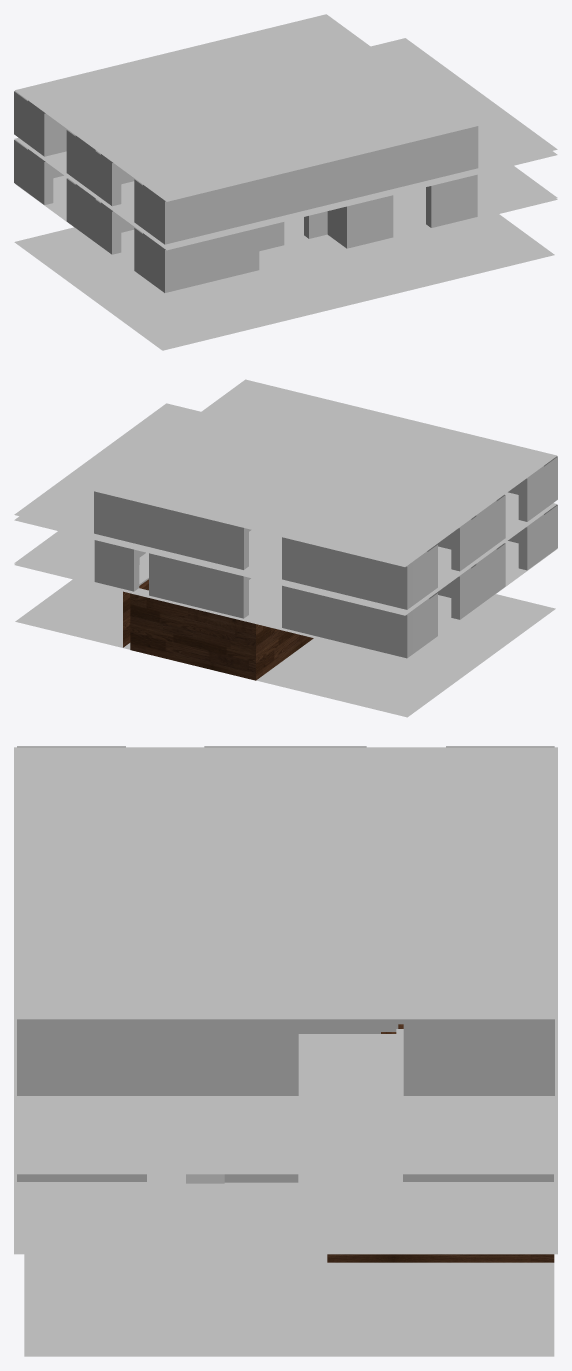
The model's file is Syrak.fbx.
3 views of the same model, one above another, from view 1: azimuth 30°, elevation 25°; view 2: azimuth 150°, elevation 25°; view 3: azimuth 270°, elevation 25° (orthographic). The views are drawn at different scales.
Parts seen in each view (by area): view 1: Basement - Floor.007, First Floor - Floor.001, Basement - Floor.006, Cube.002, Basement - Floor.003, Basement - Floor.004, Basement - Floor.001, Basement - Floor.002, Basement - Floor.005, Cube.011, Cube.005, Cube.024 (+84 smaller); view 2: Basement - Floor.007, First Floor - Floor.001, Cube.019, Cube.068, Basement - Floor.006, Basement - Floor.001, Cube.005, Basement - Floor.005, Cube.028, Cube.056, Cube.006, Cube.013 (+85 smaller); view 3: Basement - Floor.001, Basement - Floor.002, Cube.020, First Floor - Floor.001, First Floor - Floor.009, Cube.026, Ground Floor - Floor.007, Ground Floor - Floor.008, Ground Floor - Floor.001, First Floor - Floor.011, Cube.159, Ground Floor - Floor.011 (+73 smaller).
Part boxes in pixels (x1,y1,x2,y2): Basement - Floor.007: [14, 228, 218, 350]; First Floor - Floor.001: [371, 38, 557, 158]; Basement - Floor.006: [70, 227, 274, 336]; Cube.002: [304, 195, 393, 248]; Basement - Floor.003: [331, 241, 442, 295]; Basement - Floor.004: [275, 255, 386, 309]; Basement - Floor.001: [443, 214, 554, 268]; Basement - Floor.002: [387, 228, 498, 282]; Basement - Floor.005: [219, 269, 330, 323]; Cube.011: [134, 179, 191, 244]; Cube.005: [66, 178, 121, 254]; Cube.024: [242, 171, 293, 225]; Basement - Floor.007: [351, 595, 555, 717]; First Floor - Floor.001: [14, 403, 200, 523]; Cube.019: [191, 608, 313, 680]; Cube.068: [123, 591, 191, 664]; Basement - Floor.006: [295, 594, 499, 703]; Basement - Floor.001: [15, 579, 122, 635]; Cube.005: [451, 543, 505, 619]; Basement - Floor.005: [256, 638, 352, 689]; Cube.028: [153, 506, 204, 560]; Cube.056: [339, 599, 390, 654]; Cube.006: [391, 593, 437, 658]; Cube.013: [392, 544, 437, 609]; Basement - Floor.001: [24, 1308, 554, 1356]; Basement - Floor.002: [24, 1259, 554, 1307]; Cube.020: [17, 1019, 298, 1095]; First Floor - Floor.001: [14, 1132, 557, 1164]; First Floor - Floor.009: [80, 1085, 530, 1132]; Cube.026: [403, 1019, 554, 1095]; Ground Floor - Floor.007: [14, 1238, 557, 1251]; Ground Floor - Floor.008: [14, 1225, 554, 1238]; Ground Floor - Floor.001: [14, 1212, 552, 1225]; First Floor - Floor.011: [298, 1034, 403, 1085]; Cube.159: [15, 1165, 557, 1174]; Ground Floor - Floor.011: [14, 1192, 289, 1205].
Size of the model in its own units: 763 by 280 by 513.
